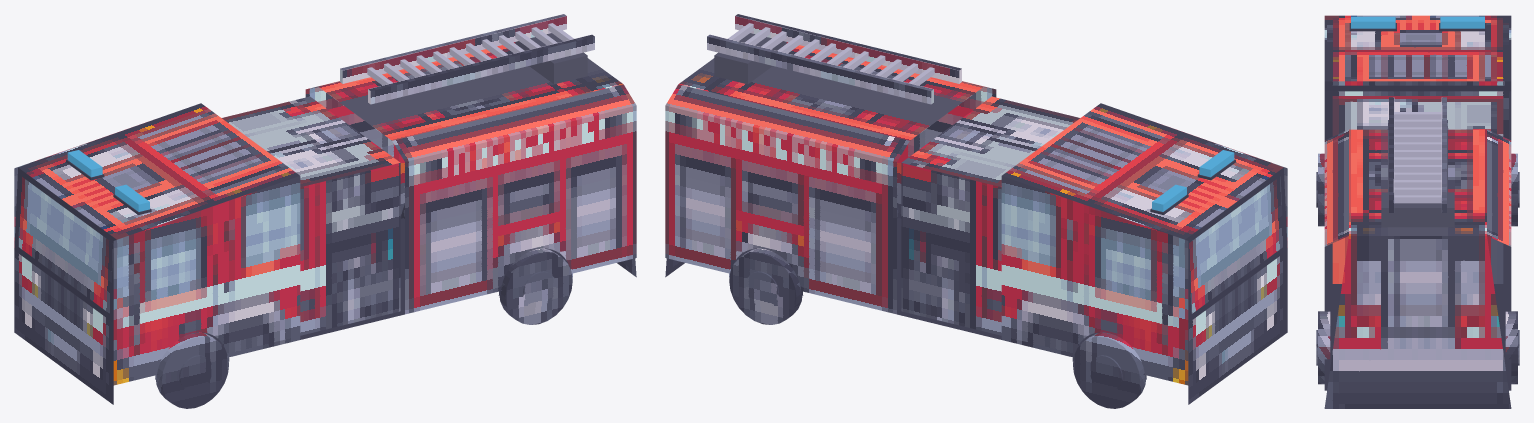
The model's file is fire-truck-ladder-1-v1.glb.
3 renders of one model, left to right at view 1: azimuth 30°, elevation 25°; view 2: azimuth 150°, elevation 25°; view 3: azimuth 270°, elevation 25°, orthographic. The views are drawn at different scales.
Parts seen in each view (by area): view 1: Compartments-west, Cab-west, Cab-roof, Pump-platform-2, Compartment-roof, Front-fascia, Pump-platform-0, Windshield-glass, Roof-shoulder-west, Tire_FL, Tire_RL, Ladder-rail--1-2 (+10 smaller); view 2: Compartments-east, Cab-east, Cab-roof, Pump-platform-3, Compartment-roof, Front-fascia, Pump-platform-0, Windshield-glass, Roof-shoulder-east, Tire_FR, Tire_RR, Ladder-rail-1-3 (+10 smaller); view 3: Rear-equipment, Cab-roof, Compartment-roof, Pump-platform-0, Ladder-rungs, Roof-shoulder-east, Roof-shoulder-west, Underfloor, Ladder-mount, Front-fascia, Windshield-frame, Pump-platform-5 (+11 smaller).
Boxes of the visible parts, box(x1,y1,x2,y2) form: Compartments-west: box(405, 105, 636, 314); Cab-west: box(113, 176, 300, 385); Cab-roof: box(18, 103, 299, 239); Pump-platform-2: box(300, 163, 400, 335); Compartment-roof: box(319, 42, 622, 140); Front-fascia: box(14, 250, 113, 404); Pump-platform-0: box(222, 96, 400, 186); Windshield-glass: box(18, 176, 113, 313); Roof-shoulder-west: box(392, 84, 636, 161); Tire_FL: box(156, 332, 228, 408); Tire_RL: box(499, 248, 572, 324); Ladder-rail--1-2: box(370, 36, 594, 104); Compartments-east: box(665, 105, 896, 314); Cab-east: box(1001, 176, 1188, 385); Cab-roof: box(1002, 103, 1283, 239); Pump-platform-3: box(901, 163, 1001, 335); Compartment-roof: box(679, 42, 982, 140); Front-fascia: box(1188, 250, 1287, 404); Pump-platform-0: box(901, 96, 1079, 186); Windshield-glass: box(1188, 176, 1283, 313); Roof-shoulder-east: box(665, 84, 909, 161); Tire_FR: box(1073, 332, 1145, 408); Tire_RR: box(729, 248, 802, 324); Ladder-rail-1-3: box(707, 36, 931, 104); Rear-equipment: box(1324, 236, 1511, 408); Cab-roof: box(1324, 15, 1511, 81); Compartment-roof: box(1349, 129, 1486, 235); Pump-platform-0: box(1332, 96, 1503, 136); Ladder-rungs: box(1394, 112, 1441, 203); Roof-shoulder-east: box(1487, 129, 1511, 246); Roof-shoulder-west: box(1324, 129, 1348, 246); Underfloor: box(1324, 243, 1511, 390); Ladder-mount: box(1381, 192, 1454, 227); Front-fascia: box(1324, 91, 1511, 139); Windshield-frame: box(1324, 81, 1511, 91); Pump-platform-5: box(1332, 236, 1503, 283).
Size of the model in its own units: 140 by 60.7 by 50.1.
1 material, 1 textured.
